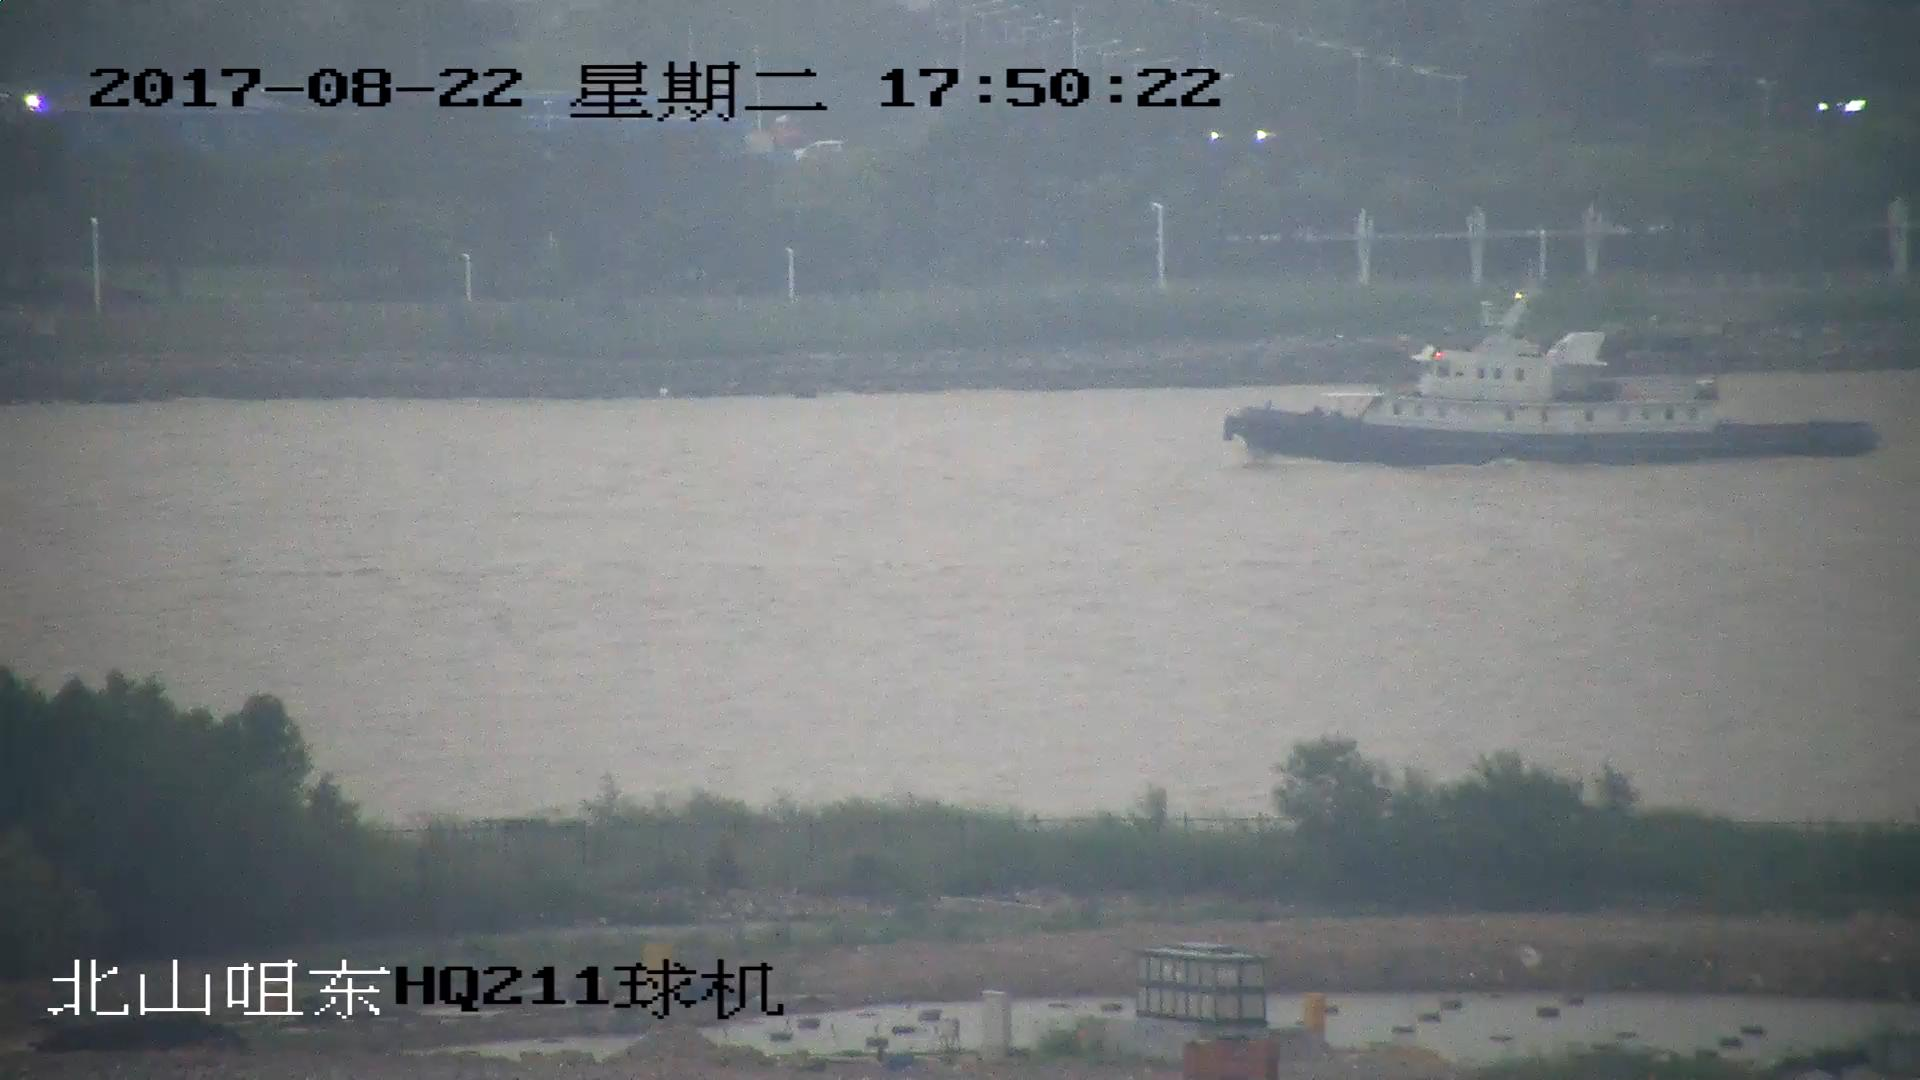passenger ship: (1226, 293, 1874, 467)
